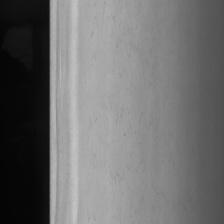silk_spot: (86, 0, 153, 179)
